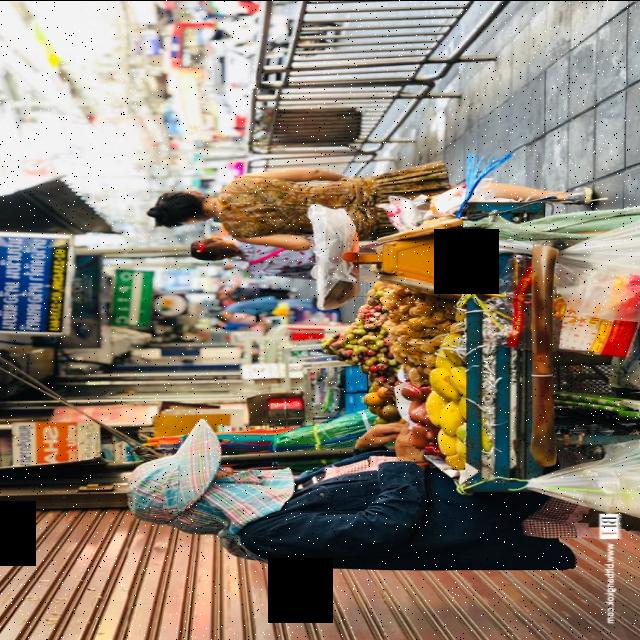food-booth: (309, 166, 640, 517)
